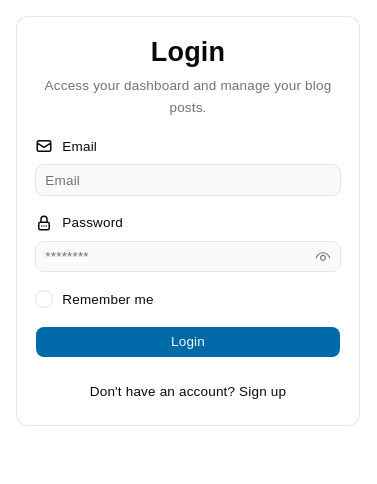
it: Auth Page › shows global error on invalid credentials
Type "wrong@example.com" into the field labelled "Email" at (188, 180), box left=35, top=164, right=341, bottom=196
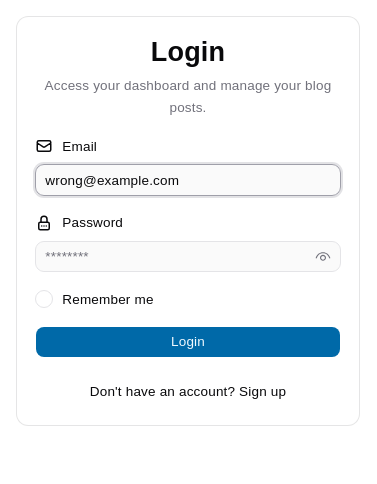
Type "wrongpass" into the password field labelled "Password" at (188, 257), box left=35, top=241, right=341, bottom=272
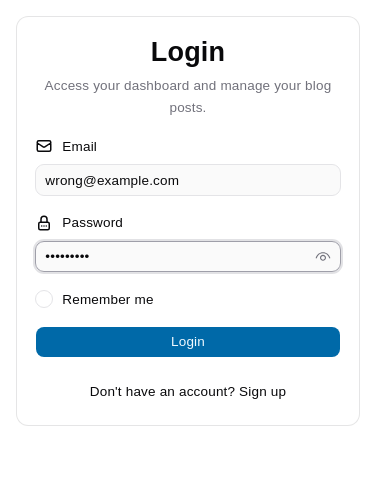
Click the button "Login" at (188, 342), box left=35, top=326, right=341, bottom=358
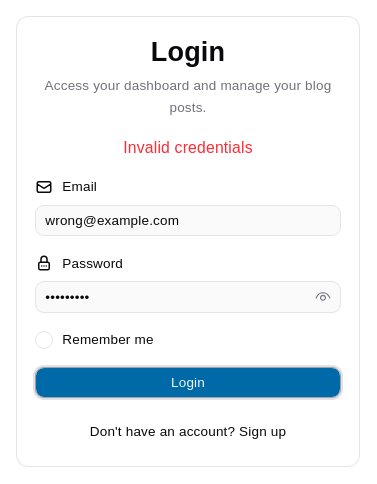
Expected: the text "Invalid credentials" is shown, left=123, top=139, right=253, bottom=156
